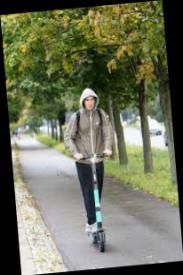nonhelmet: (61, 84, 126, 254)
